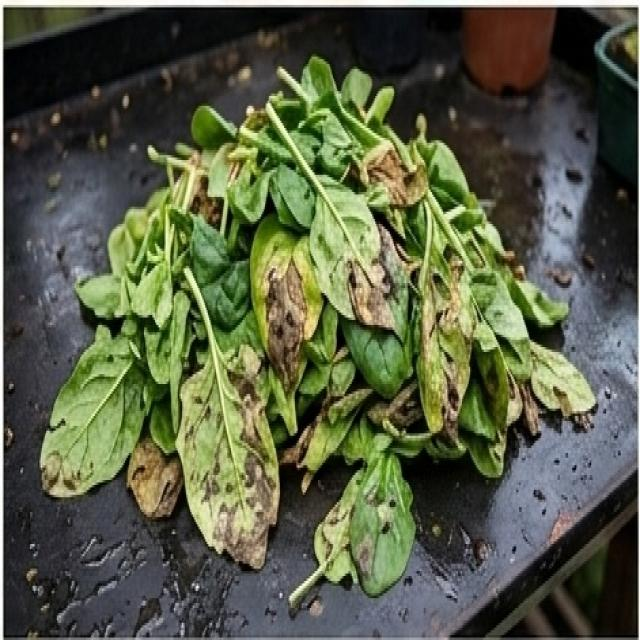rotten spinach: (36, 48, 609, 616)
